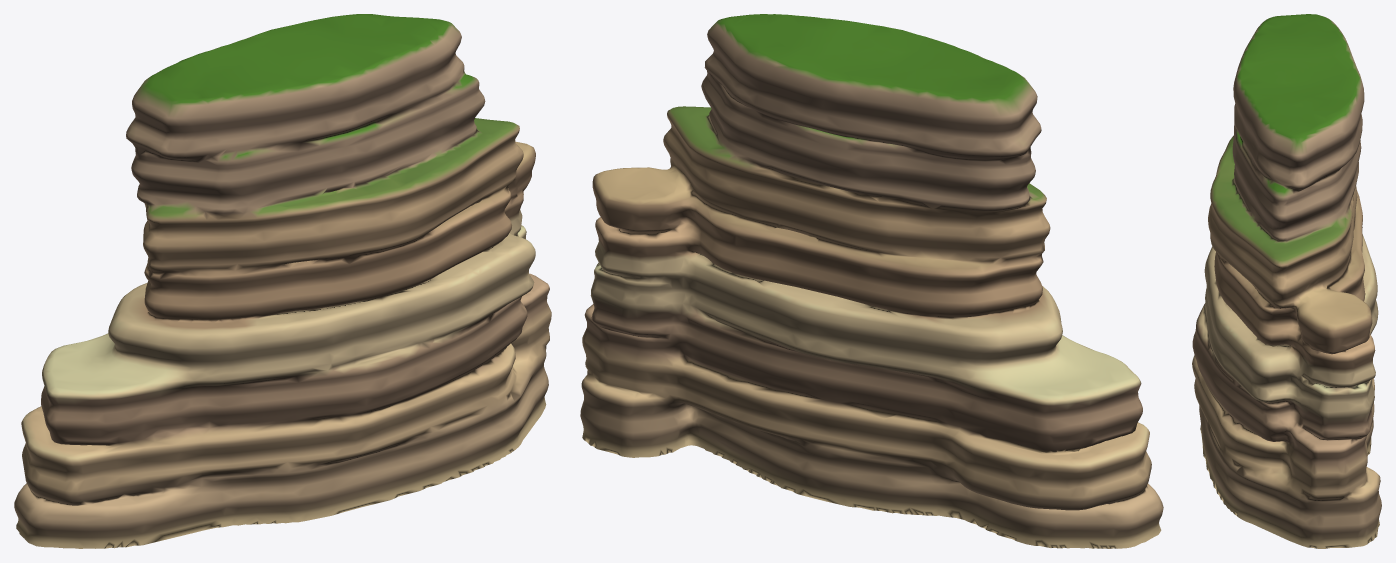
File: cliff_b.glb
3 renders of one model, left to right at view 1: azimuth 30°, elevation 25°; view 2: azimuth 150°, elevation 25°; view 3: azimuth 270°, elevation 25°, orthographic. The views are drawn at different scales.
Parts seen in each view (by area): view 1: cliff_b_mesh; view 2: cliff_b_mesh; view 3: cliff_b_mesh.
Part boxes in pixels (x1=…): cliff_b_mesh: x1=14, y1=14, x2=551, y2=548; cliff_b_mesh: x1=580, y1=14, x2=1163, y2=548; cliff_b_mesh: x1=1192, y1=14, x2=1381, y2=548.
Bounding box in the file's own units: 19.14 × 14.02 × 6.58.
